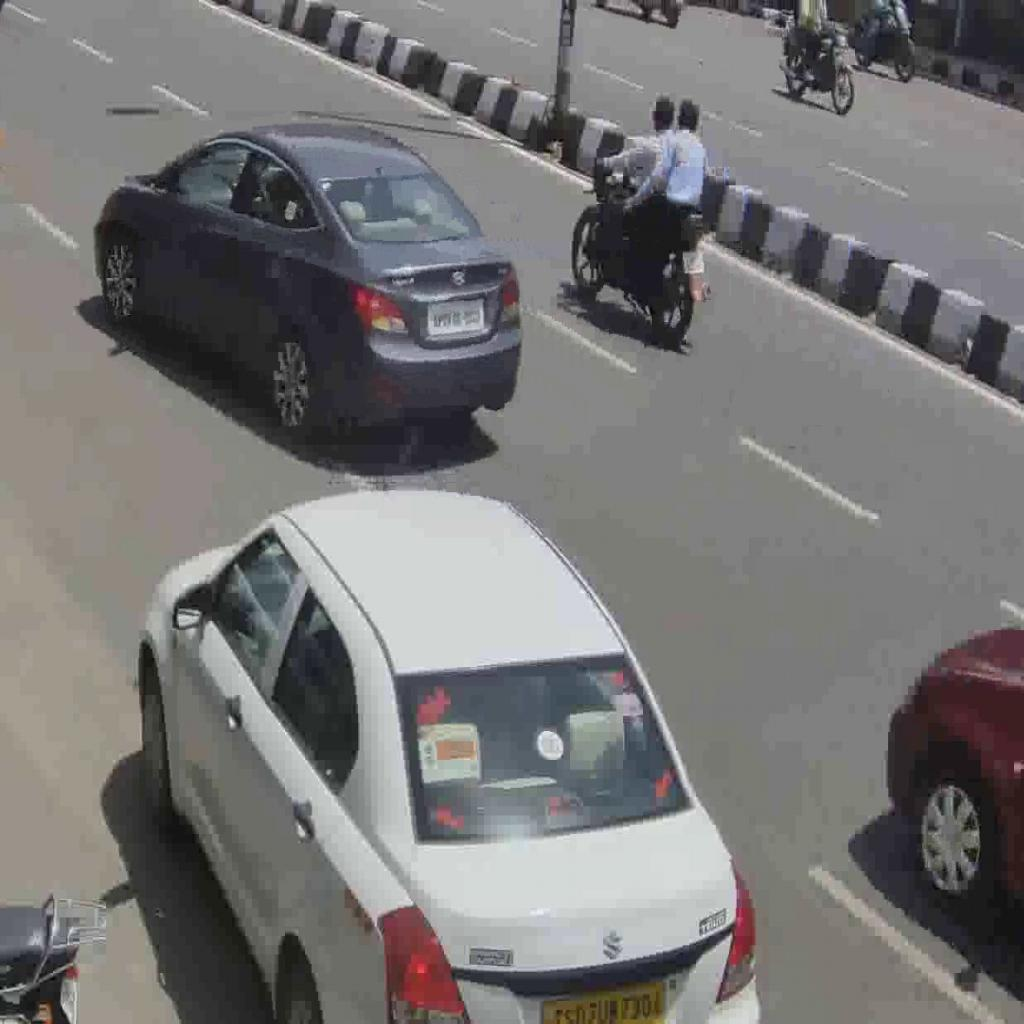helmet: (570, 152, 714, 346)
